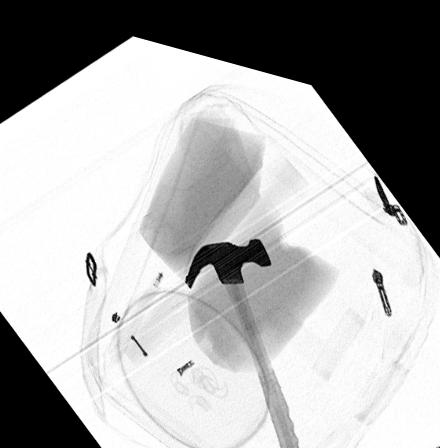Hammer: (183, 223, 309, 448)
